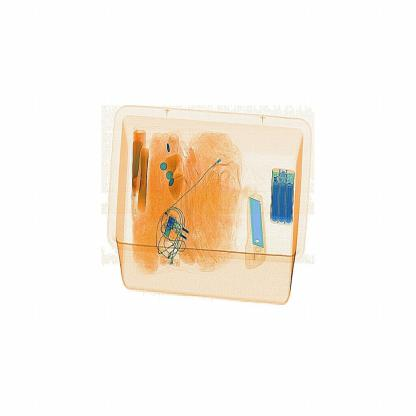pliers: (245, 197, 268, 270)
